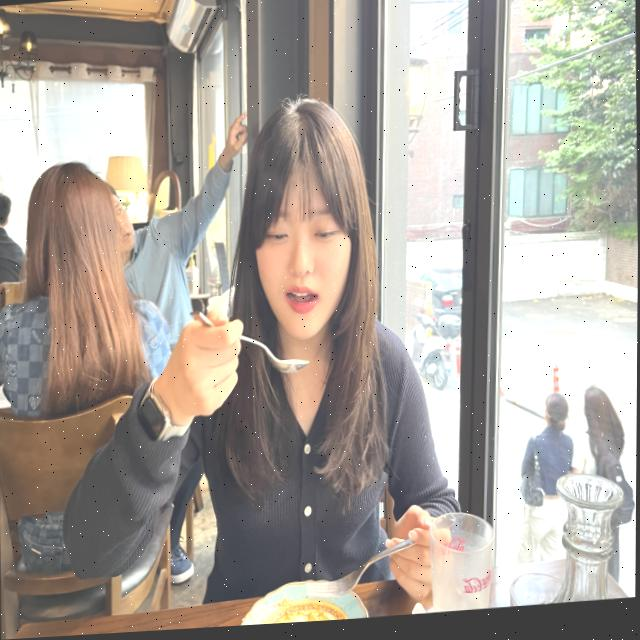eating-person: (52, 67, 497, 637)
